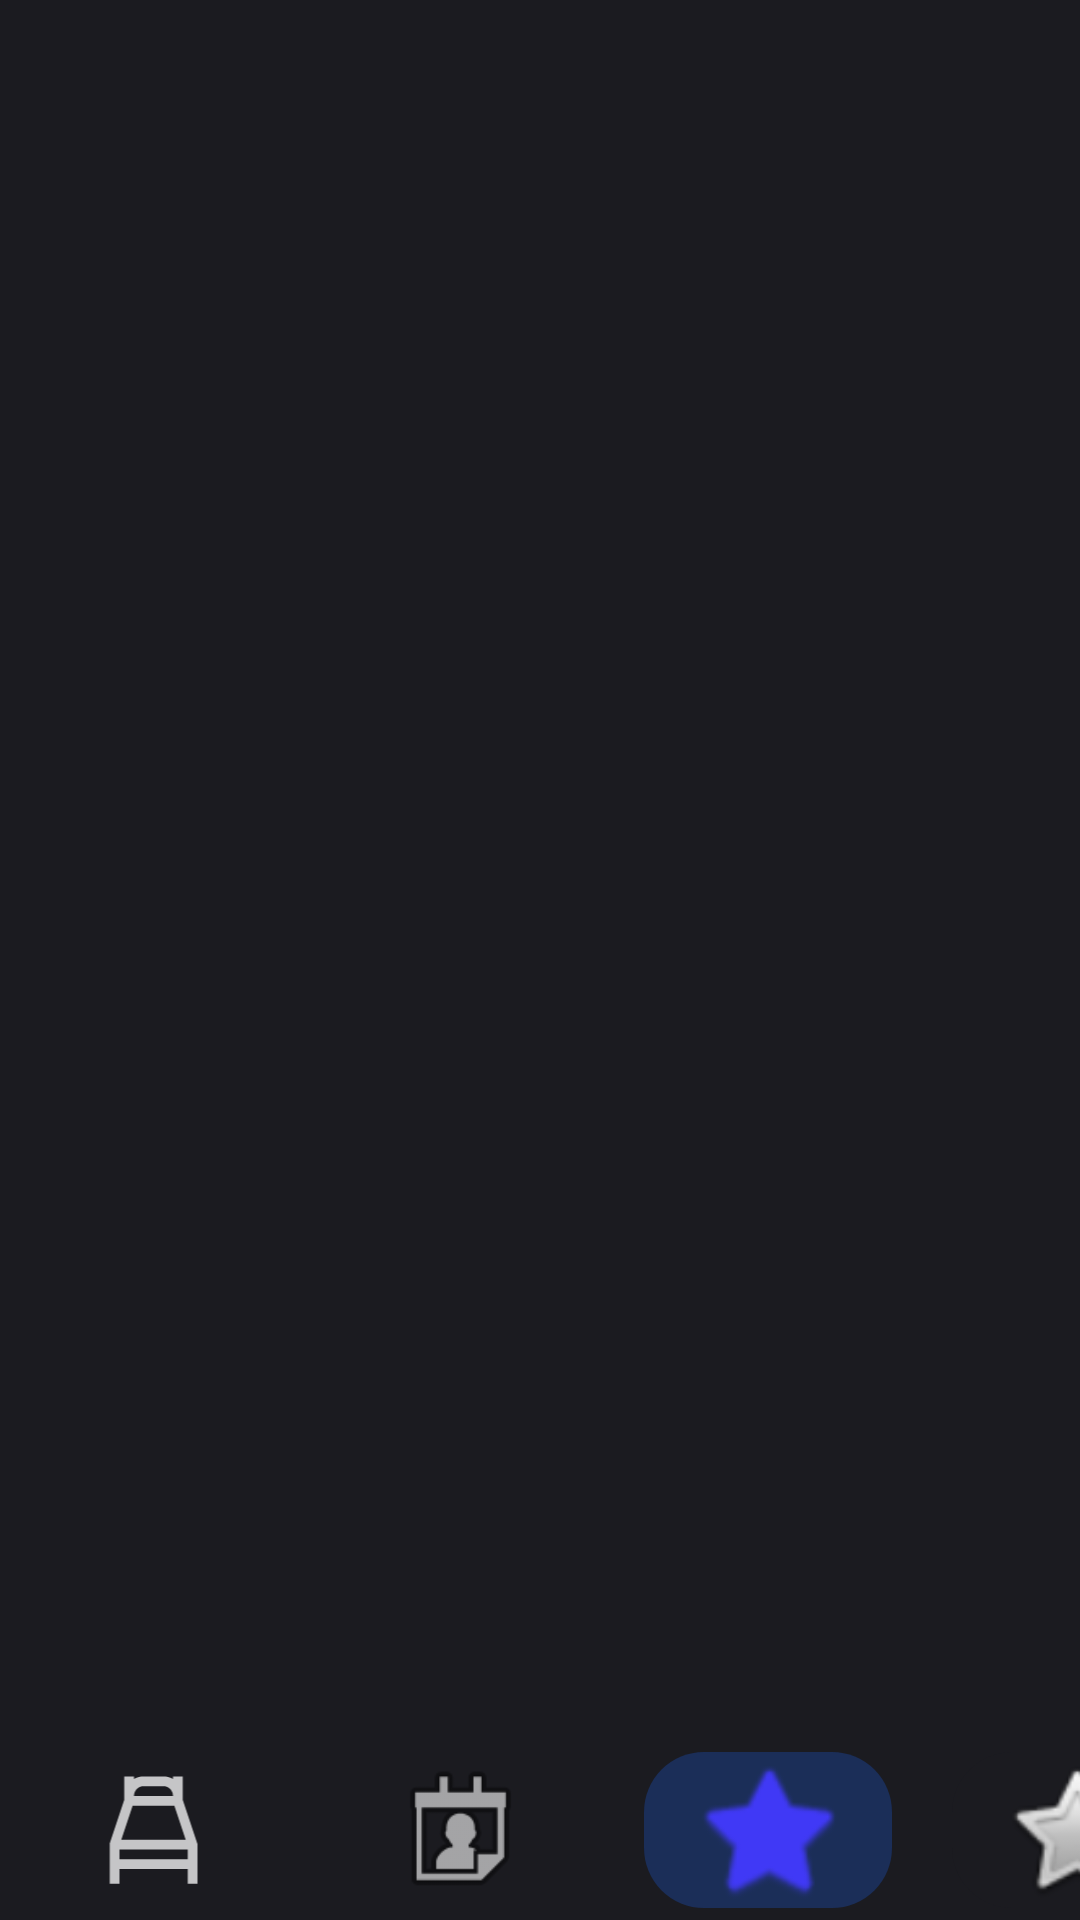

Icon bounding boxes for this 1080px×1920px phone screenshot, format (x1, y1, x2, y2):
bed: (109, 1776, 198, 1884)
calendar: (415, 1776, 506, 1881)
